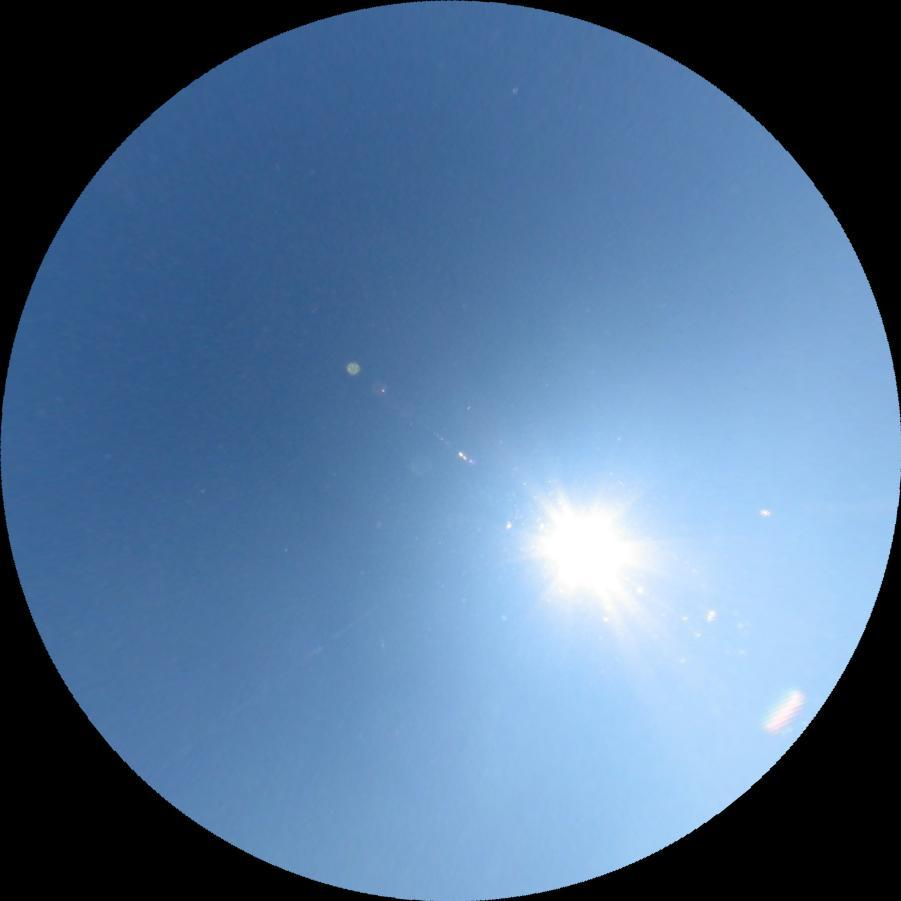sun: (519, 488, 654, 617)
